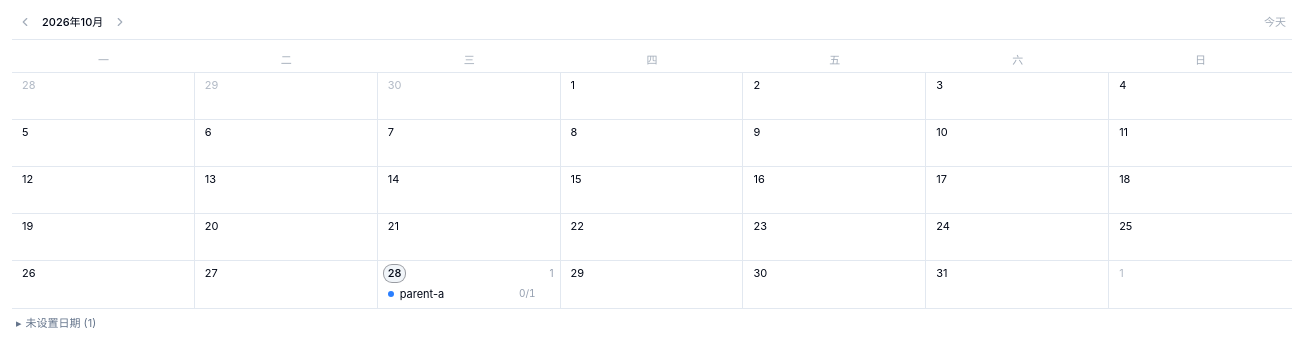
Test case: TaskCalendar 子任务浮层入口 › 再次点徽标收起浮层
Click the button "0/1".
click(527, 294)  # box [519, 286, 536, 301]
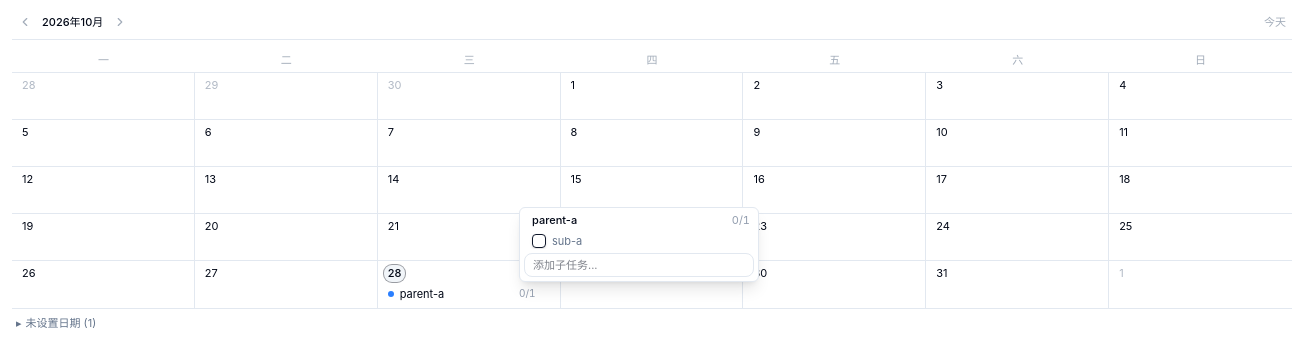
Expected: the field with placeholder "添加子任务..." is shown, [524, 253, 754, 277]
Click the button "0/1".
click(527, 294)  # box [519, 286, 536, 301]
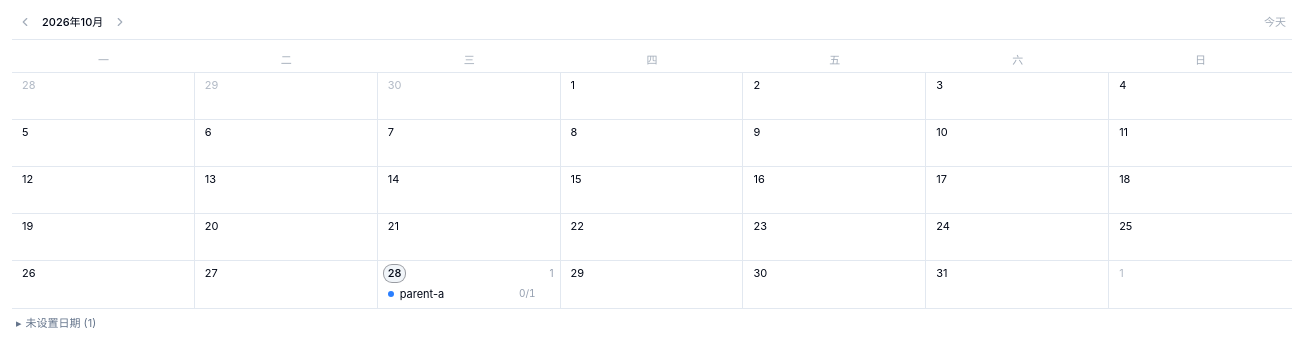
Expected: the field with placeholder "添加子任务..." is gone
